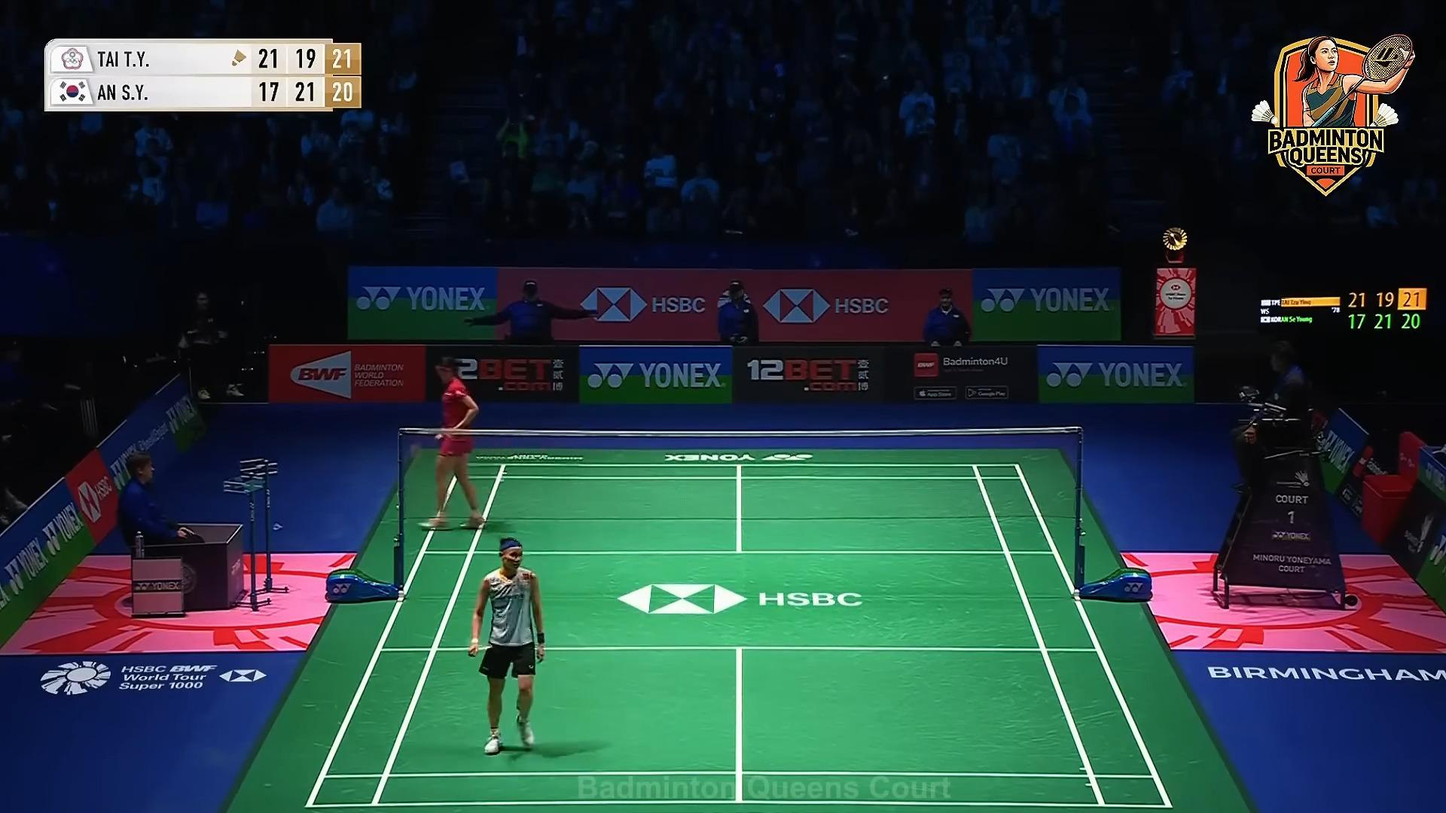player: (468, 537, 548, 757), (417, 352, 485, 533)
